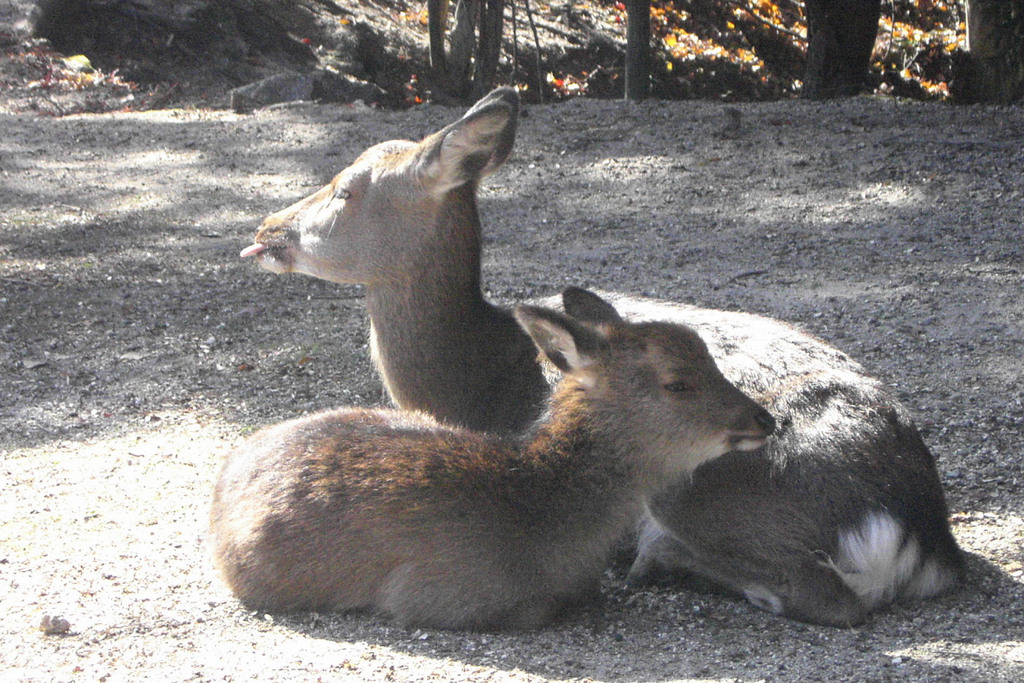kangaroo: (206, 286, 774, 632)
